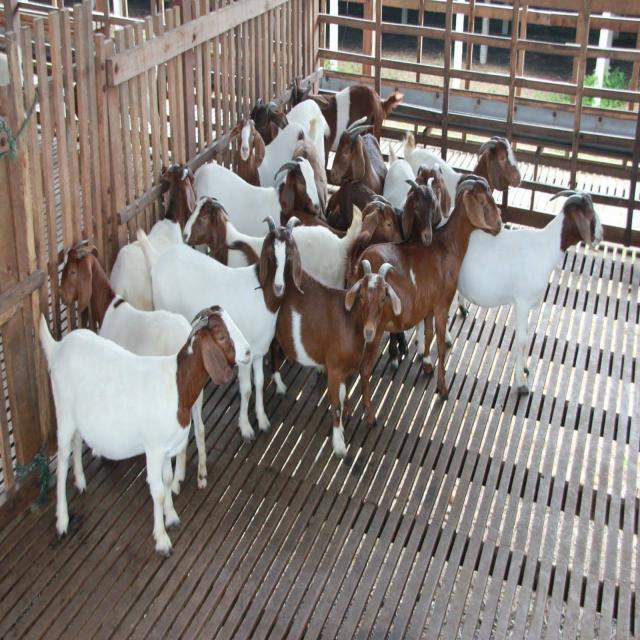Goat: (38, 300, 253, 557), (452, 188, 603, 395)
